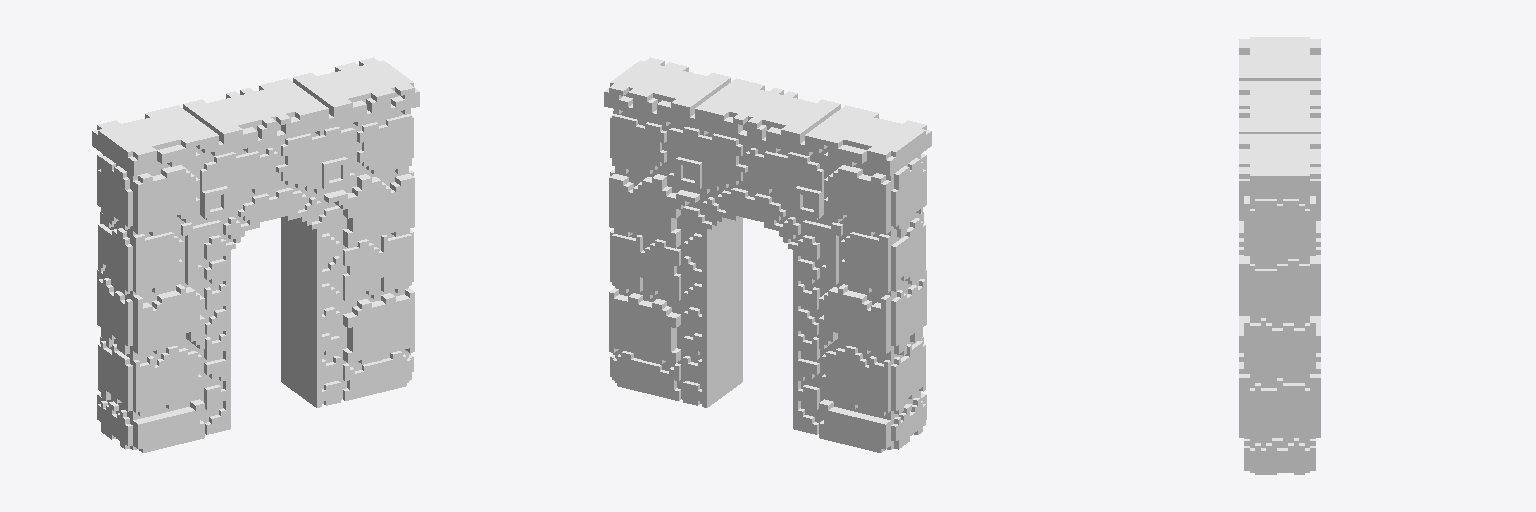
File: Walldrawbridge2.obj
The picture shows the model from 3 angles: view 1: azimuth 30°, elevation 25°; view 2: azimuth 150°, elevation 25°; view 3: azimuth 270°, elevation 25°; orthographic projection.
Visible parts, largest first — view 1: object 1; view 2: object 1; view 3: object 1.
Boxes of the visible parts, x1=… form: object 1: x1=92, y1=57, x2=419, y2=452; object 1: x1=604, y1=57, x2=931, y2=452; object 1: x1=1239, y1=37, x2=1320, y2=474.
Bounding box in the file's own units: 6 × 6 × 1.5.